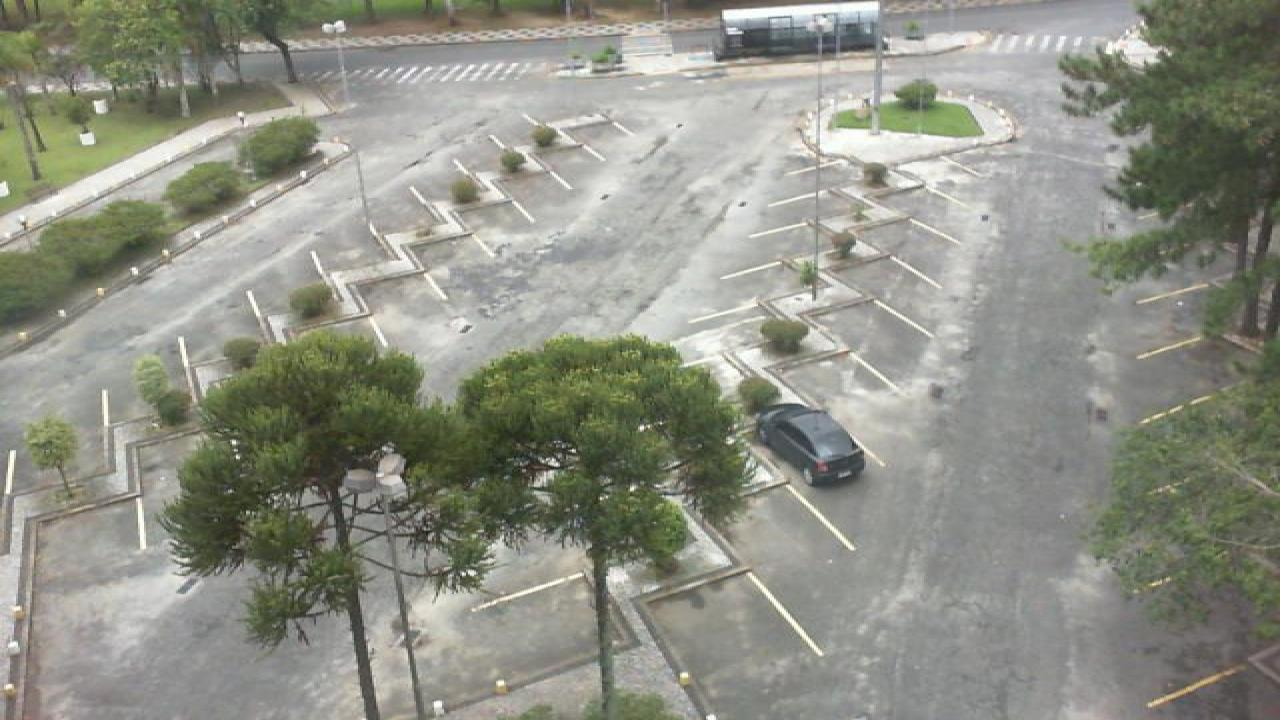Car: (754, 403, 864, 488)
